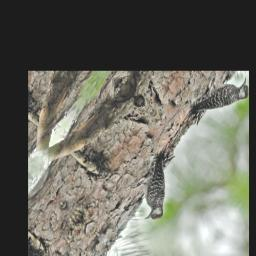Woodpecker: (121, 148, 193, 230)
